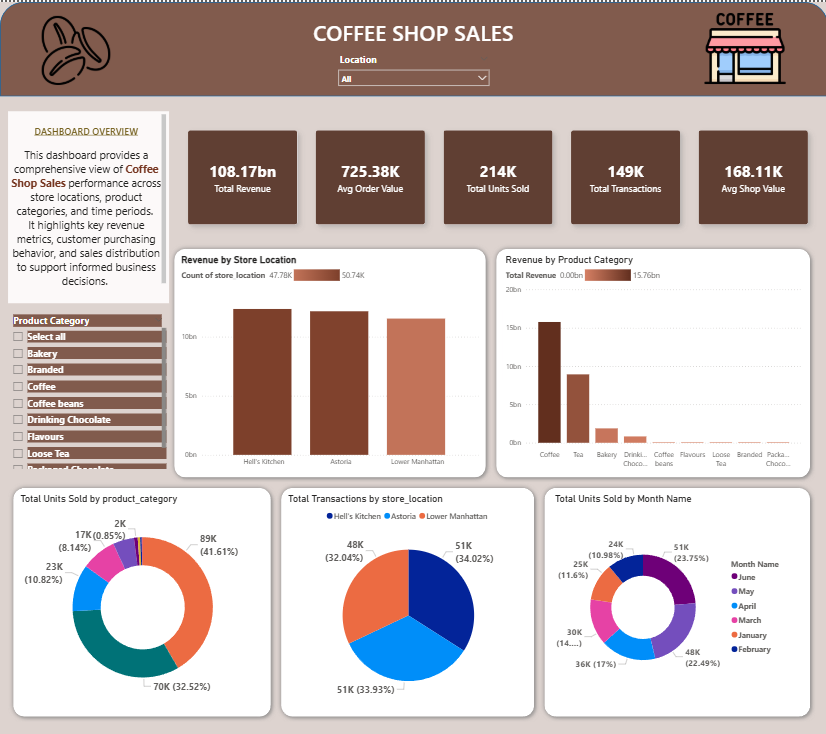

The dashboard page shown, as its layout file describes it:
{"tool":"powerbi","page":{"name":"Page 1","canvas":[1440,1280],"ordinal":0},"visuals":[{"type":"cardVisual","fields":{"Data":["Coffee Shop Sales.Total Revenue","Coffee Shop Sales.Average Order Value","Coffee Shop Sales.Total Units Sold","Coffee Shop Sales.Total Transactions","Coffee Shop Sales.Avg Shop Value"]},"box":[294,190,1146,230],"z":0},{"type":"shape","box":[0,0,1440,164],"z":1000},{"type":"textbox","box":[424,22,590,62],"z":2000},{"type":"shape","box":[294,420,560,416],"z":3000},{"type":"image","box":[1218,10,156,142],"z":4000},{"type":"image","box":[60,22,144,124],"z":5000},{"type":"columnChart","title":"Revenue by Store Location","fields":{"Category":["Coffee Shop Sales.store_location"],"Y":["Coffee Shop Sales.Total Revenue"]},"box":[310,438,528,380],"z":6000},{"type":"shape","box":[854,420,564,416],"z":7000},{"type":"columnChart","title":" Revenue by Product Category","fields":{"Category":["Coffee Shop Sales.product_category"],"Y":["Coffee Shop Sales.Total Revenue"]},"box":[874,438,524,380],"z":8000},{"type":"shape","box":[14,836,466,416],"z":9000},{"type":"shape","box":[480,836,458,416],"z":10000},{"type":"shape","box":[938,836,480,416],"z":11000},{"type":"donutChart","title":"Units Sold by product_category","fields":{"Category":["Coffee Shop Sales.product_category"],"Y":["Coffee Shop Sales.Total Units Sold"]},"box":[30,854,436,378],"z":12000},{"type":"pieChart","title":"Transactions by store_location","fields":{"Category":["Coffee Shop Sales.store_location"],"Y":["Coffee Shop Sales.Total Transactions"]},"box":[496,854,428,378],"z":13000},{"type":"donutChart","title":"Units Sold by Month Name","fields":{"Category":["Coffee Shop Sales.Month Name"],"Y":["Coffee Shop Sales.Total Units Sold"]},"box":[960,854,422,378],"z":14000},{"type":"slicer","fields":{"Values":["Coffee Shop Sales.store_location"]},"box":[578.6,84.3,282.9,72.9],"z":15000},{"type":"textbox","box":[14,190,280,336],"z":16000},{"type":"slicer","fields":{"Values":["Coffee Shop Sales.product_category"]},"box":[10,540,284,278],"z":17000}]}

Visuals, with their boxes in screenshot pixels (x1, y1, x2, y2), scaled from the page's 1440x1280 canvas onto the 826x734 screenshot:
cardVisual - Coffee Shop Sales.Total Revenue x Coffee Shop Sales.Average Order Value: region(169, 109, 825, 241)
shape: region(0, 0, 825, 94)
textbox: region(243, 13, 582, 48)
shape: region(169, 241, 490, 479)
image: region(699, 6, 788, 87)
image: region(34, 13, 117, 84)
"Revenue by Store Location" columnChart: region(178, 251, 481, 469)
shape: region(490, 241, 813, 479)
" Revenue by Product Category" columnChart: region(501, 251, 802, 469)
shape: region(8, 479, 275, 718)
shape: region(275, 479, 538, 718)
shape: region(538, 479, 813, 718)
"Units Sold by product_category" donutChart: region(17, 490, 267, 706)
"Transactions by store_location" pieChart: region(285, 490, 530, 706)
"Units Sold by Month Name" donutChart: region(551, 490, 793, 706)
slicer - Coffee Shop Sales.store_location: region(332, 48, 494, 90)
textbox: region(8, 109, 169, 302)
slicer - Coffee Shop Sales.product_category: region(6, 310, 169, 469)
